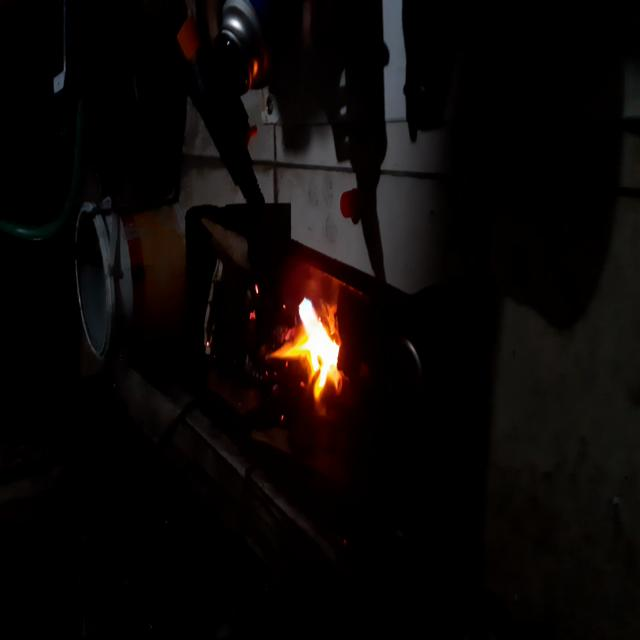Fire: (274, 284, 344, 426)
